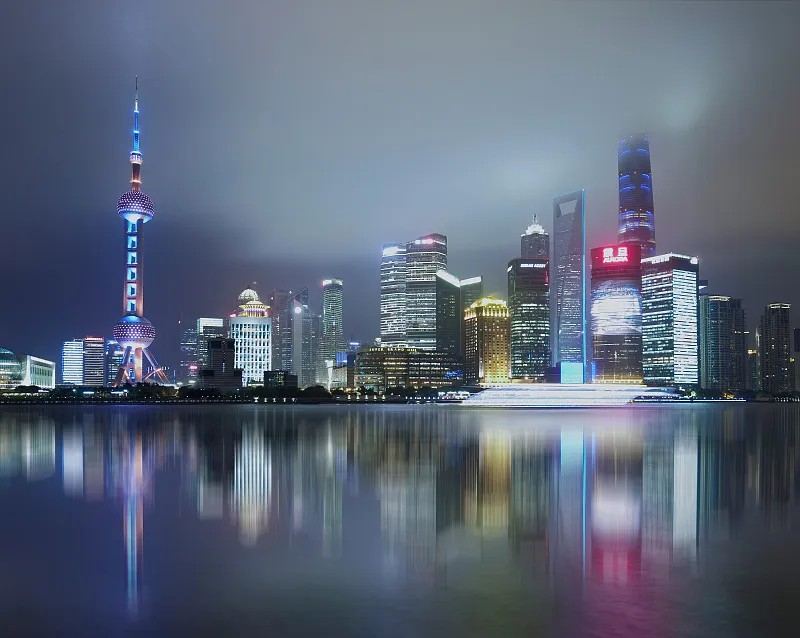Oriental: (110, 76, 170, 384)
